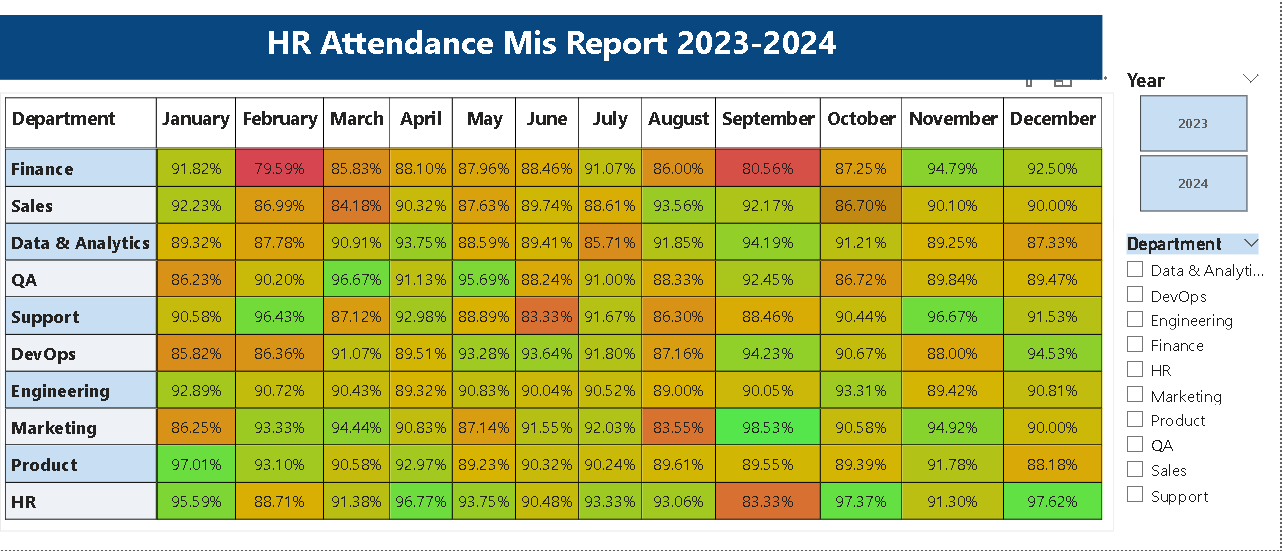

The dashboard page shown, as its layout file describes it:
{"tool":"powerbi","page":{"name":"MIS Report","canvas":[1280,550],"ordinal":1},"visuals":[{"type":"pivotTable","fields":{"Values":["Attendance Log.Attendance Rate %"],"Rows":["Employee Master.Department"],"Columns":["Attendance Log.Month.Variation.Date Hierarchy.Month"]},"box":[0,92.8,1113.3,438.6],"z":0},{"type":"slicer","fields":{"Values":["Employee Master.Department"]},"box":[1113.3,228.9,157.8,302.4],"z":1000},{"type":"slicer","fields":{"Values":["Attendance Log.Year"]},"box":[1113.3,65.1,157.8,153],"z":2000},{"type":"textbox","box":[0,14.5,1102.4,65.1],"z":3000}]}

Visuals, with their boxes on the page's 1280x550 design canvas (x1, y1, x2, y2). These are canvas units, not pixel positions in the 1282x551 screenshot, which may show the page scaled, cropped or inside an application window:
pivotTable - Attendance Log.Attendance Rate % x Employee Master.Department: [left=0, top=93, right=1113, bottom=531]
slicer - Employee Master.Department: [left=1113, top=229, right=1271, bottom=531]
slicer - Attendance Log.Year: [left=1113, top=65, right=1271, bottom=218]
textbox: [left=0, top=14, right=1102, bottom=80]
